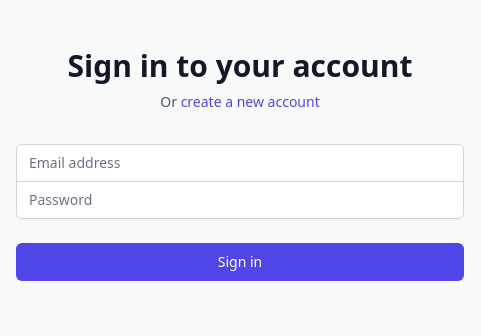
it: Login Component › handles login error
Type "test@example.com" into the field with placeholder "Email address" at (240,162), box [16, 144, 464, 182]
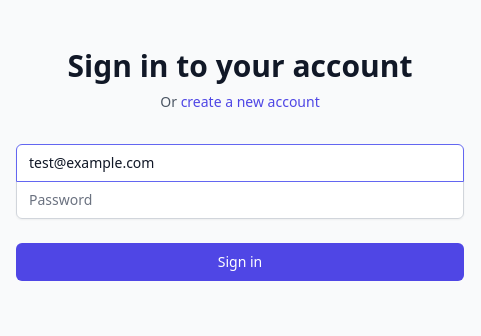
Type "wrongpassword" into the password field with placeholder "Password" at (240,200), box [16, 180, 464, 218]
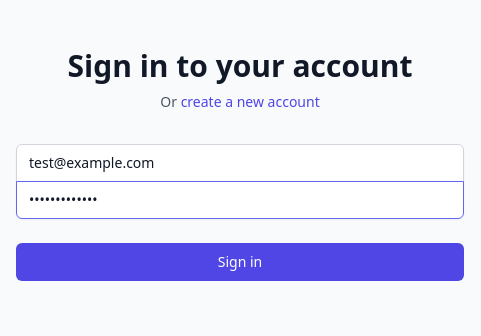
Click the button "Sign in" at (240,262), box [16, 242, 464, 280]
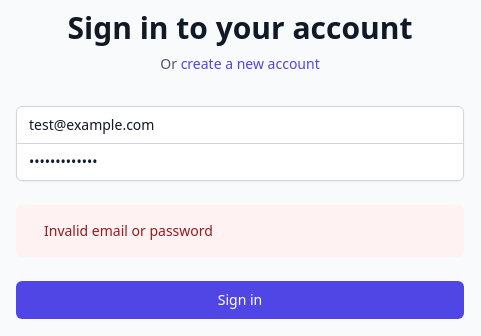
Check: the heading "Invalid email or password" is shown, box [44, 220, 213, 240]
